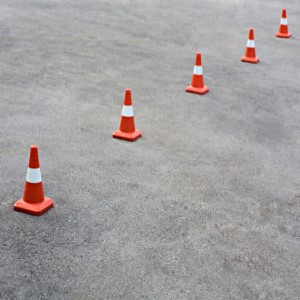traffic cone: (14, 146, 54, 217), (111, 88, 142, 141), (184, 52, 210, 95), (239, 27, 260, 63), (274, 7, 293, 38)
